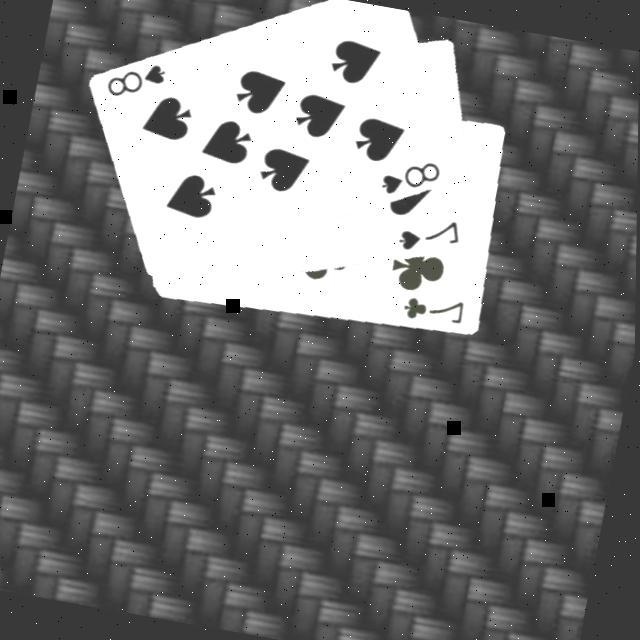7C: (399, 290, 472, 333)
7S: (394, 210, 467, 264)
8S: (377, 152, 448, 208), (101, 54, 172, 110)
